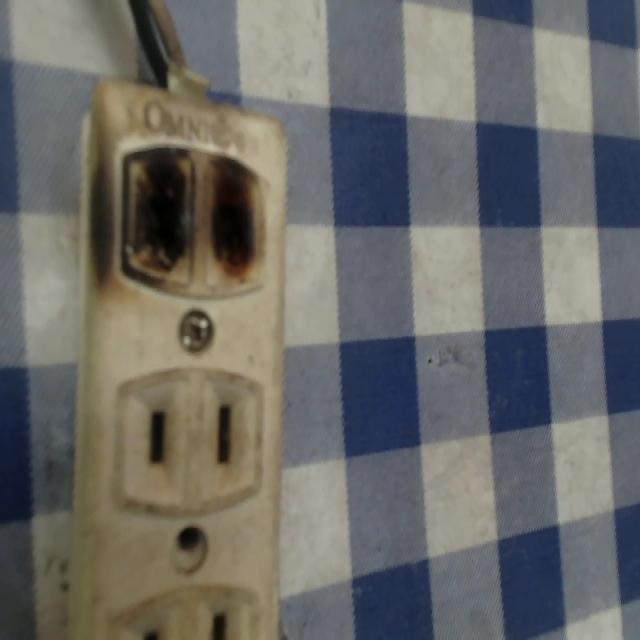-: (95, 125, 276, 304)
